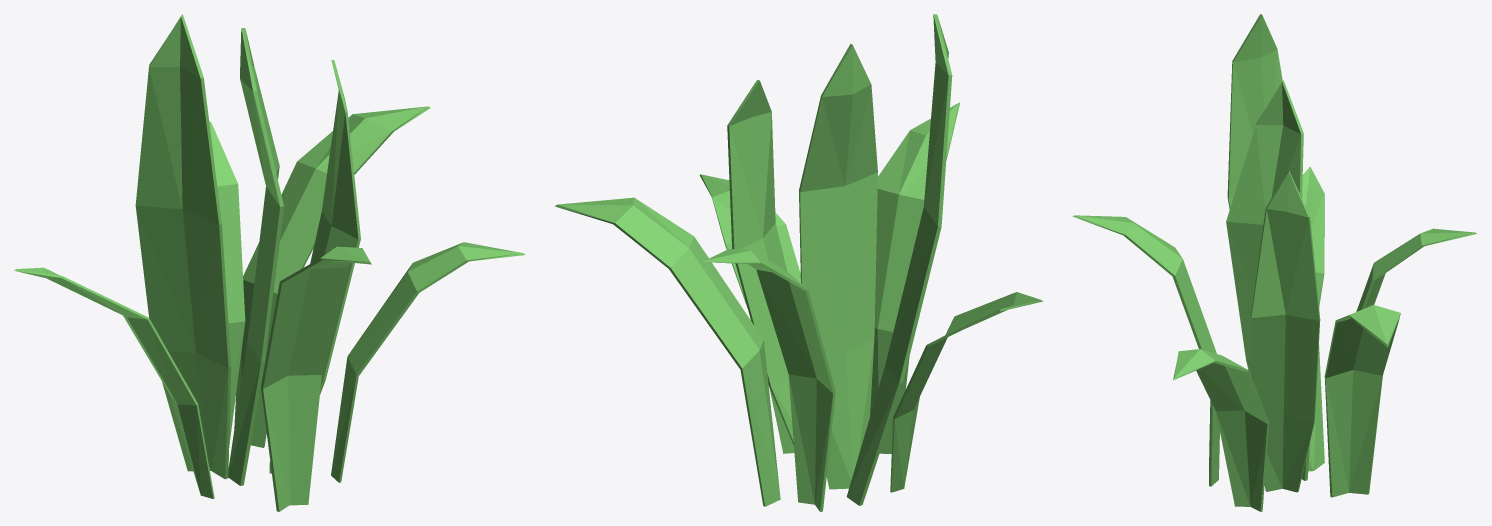
The model's file is tropical_plant_2.glb.
3 renders of one model, left to right at view 1: azimuth 30°, elevation 25°; view 2: azimuth 150°, elevation 25°; view 3: azimuth 270°, elevation 25°, orthographic. The views are drawn at different scales.
Parts seen in each view (by area): view 1: Tropical_plant_002; view 2: Tropical_plant_002; view 3: Tropical_plant_002.
Part boxes in pixels (x1=…): Tropical_plant_002: x1=14, y1=14, x2=525, y2=511; Tropical_plant_002: x1=555, y1=14, x2=1043, y2=511; Tropical_plant_002: x1=1072, y1=14, x2=1477, y2=511.
Bounding box in the file's own units: 0.987 × 1.01 × 0.8589.
1 material, 1 textured.
